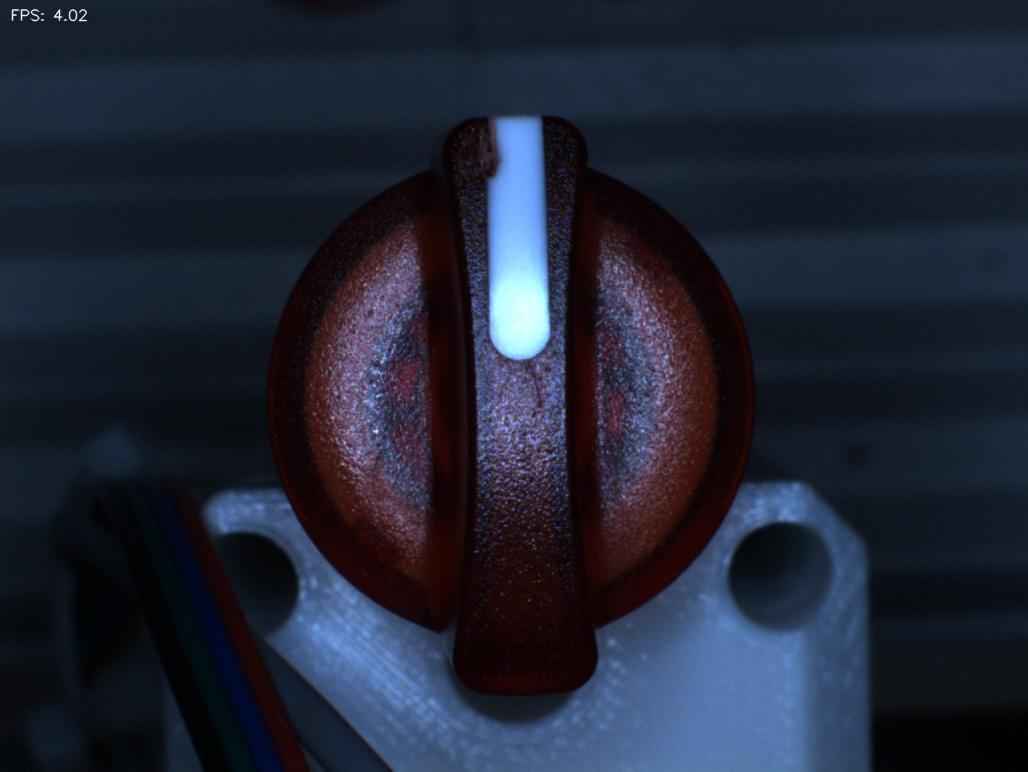Choc: (428, 102, 516, 197)
